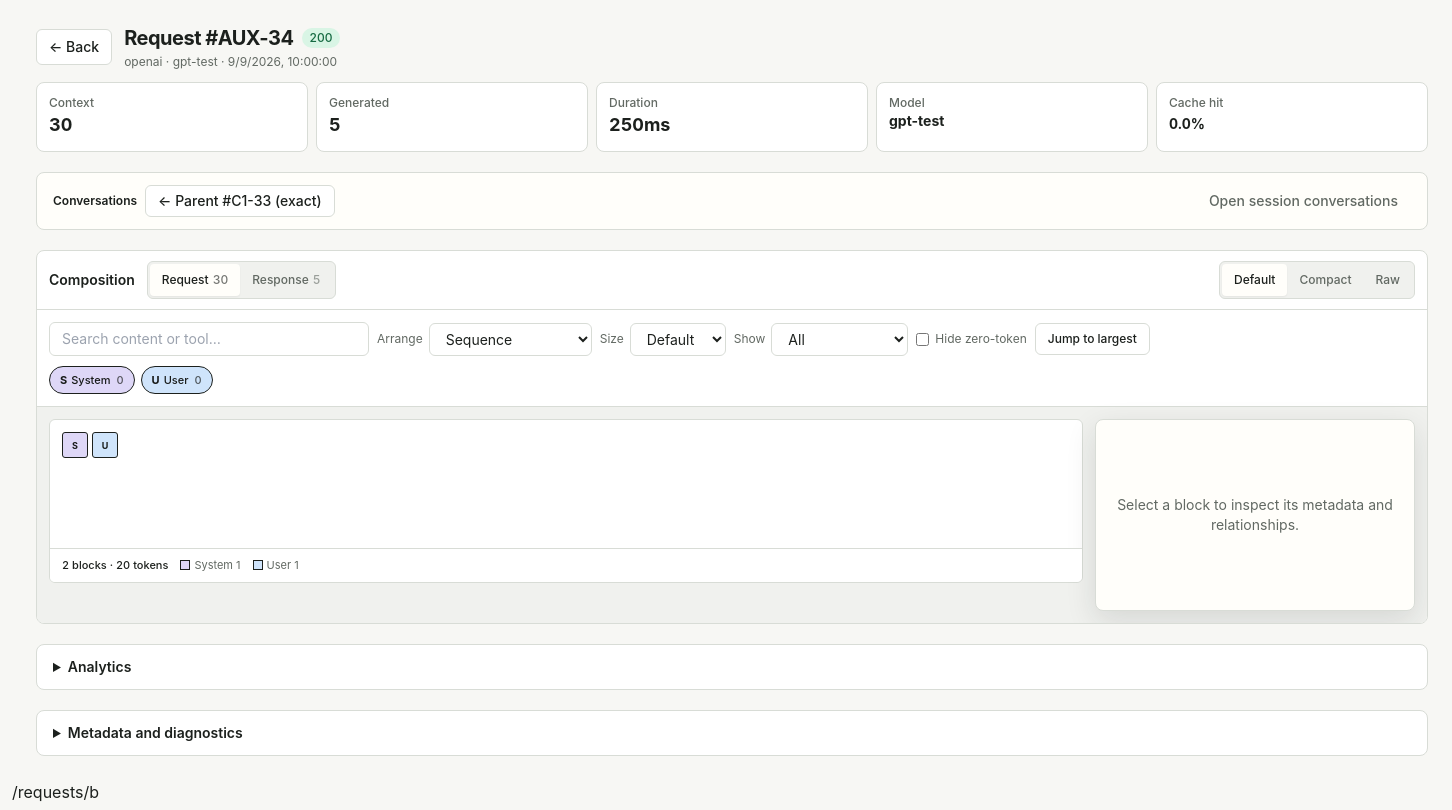
Test: RequestDetail block selection in the URL › mirrors selection changes in the URL
This screenshot has width=1452, height=810.
Click the button "U".
click(105, 445)  # box [92,432,118,458]
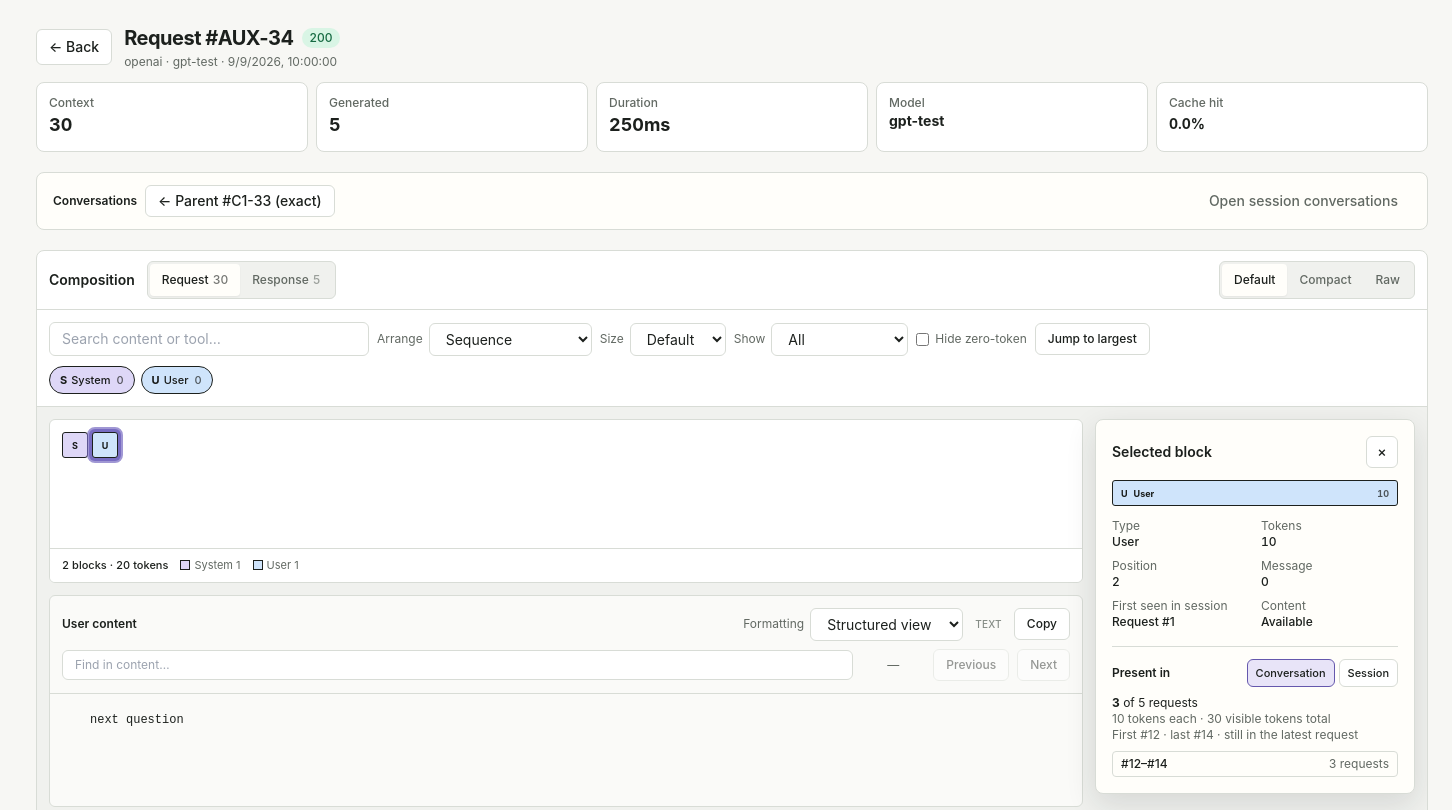
Click the button named "Close block inspector".
click(1382, 452)  # box [1366,436,1398,468]
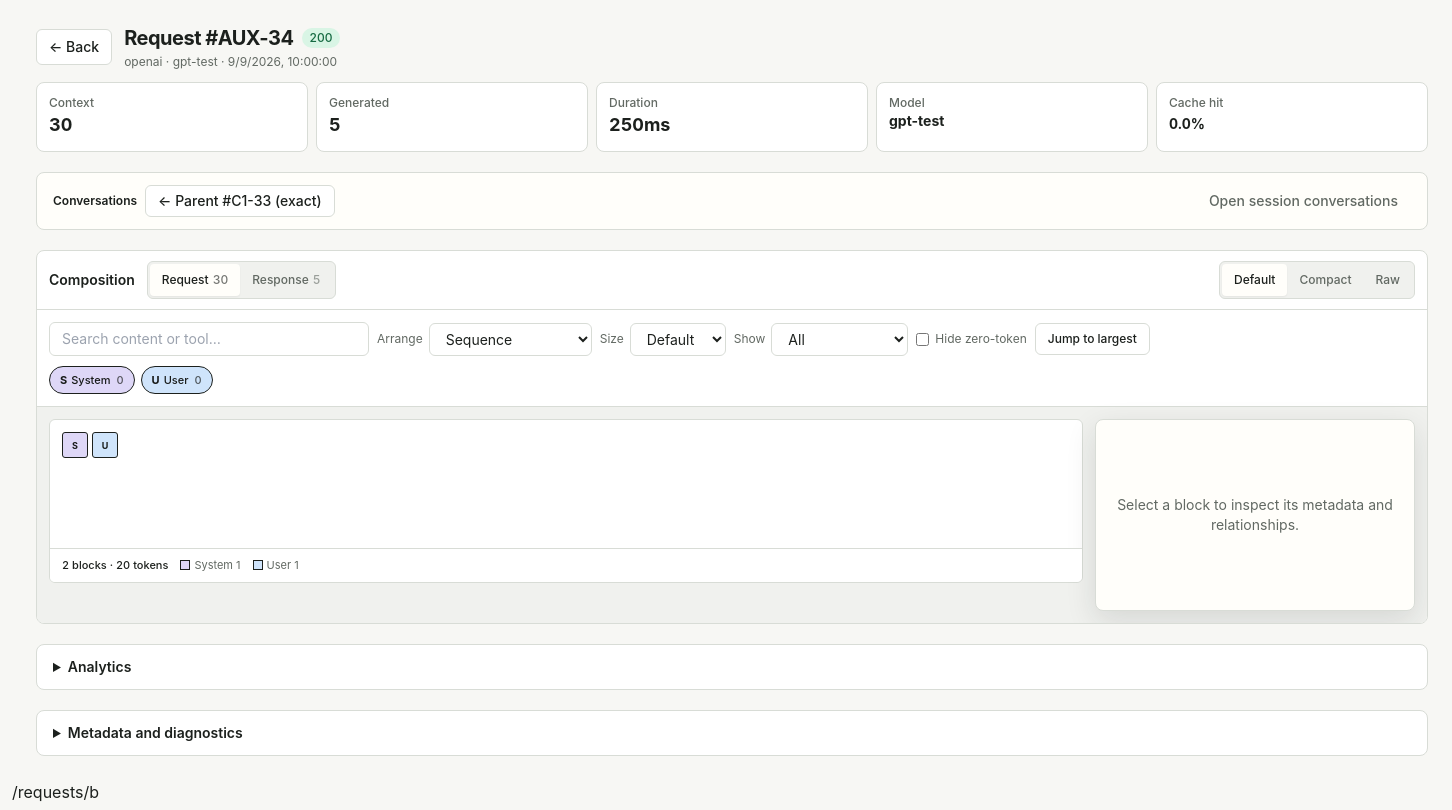
Expected: the text with test id "location" reads "/requests/b", [12,782,99,802]
